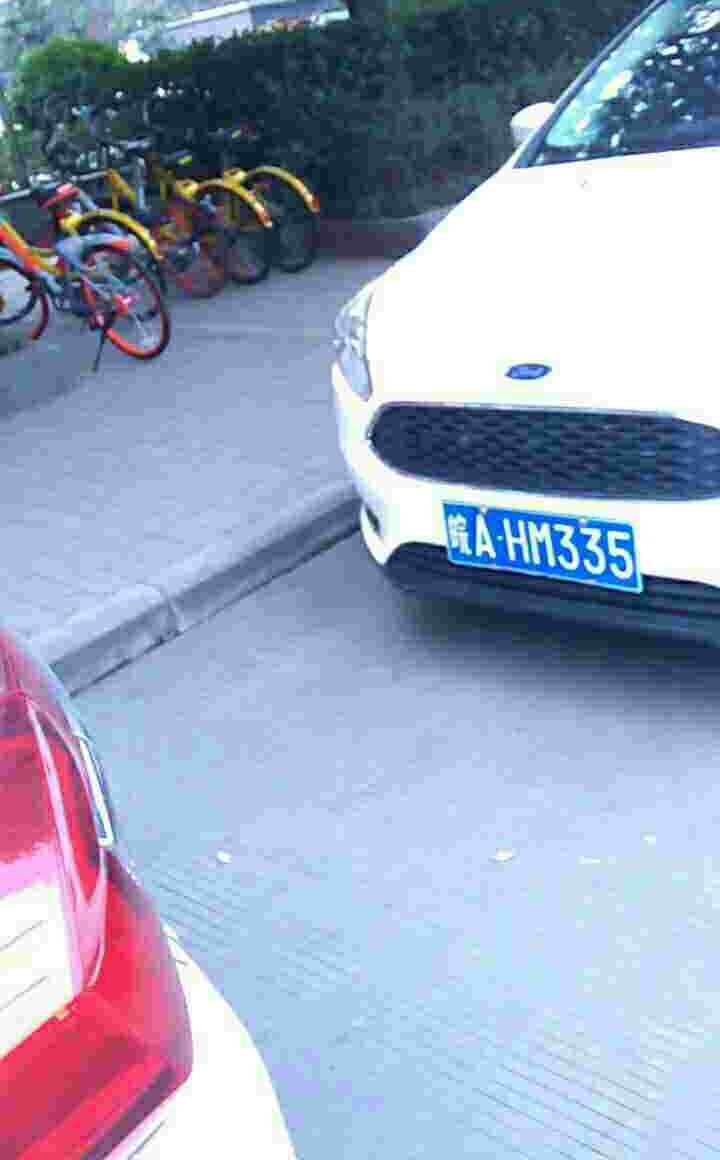license_plate: (440, 501, 643, 594)
